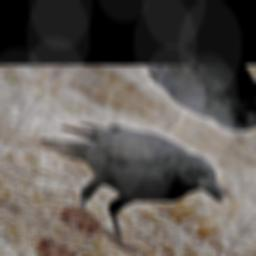Crow: (3, 91, 242, 256)
